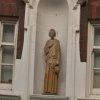Statue: (35, 20, 66, 93)
